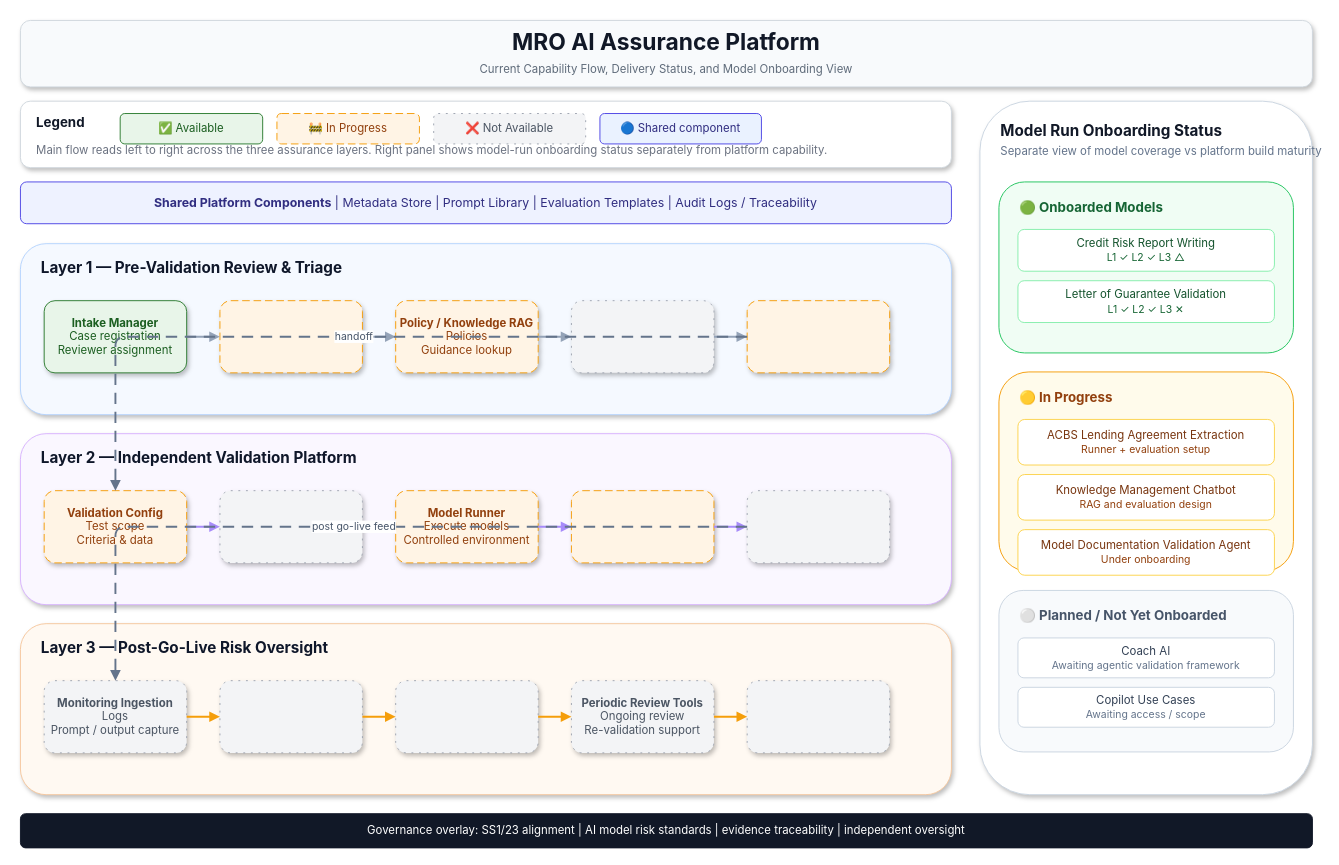
The diagram is 1339 pixels wide and 865 high, and some of its shapes have lost their labels. Here are the shapes that lost their labels. From the top down, the centre of each, then its label:
At pixel 291 338: "Document Parsing PDF / doc extraction Structured chunks".
At pixel 643 338: "Risk Triage Engine Materiality Risk scoring".
At pixel 818 338: "Review Output Triage pack Validation scope".
At pixel 291 528: "Test Orchestrator Run workflow Manage steps".
At pixel 643 528: "Evaluation Engine LLM-as-Judge Rules + hybrid scoring".
At pixel 818 528: "Reporting Engine Evidence pack Validation report".
At pixel 291 718: "Drift Detection Behaviour drift Risk change signals".
At pixel 467 718: "Alerting Framework Threshold breaches Escalation workflow".
At pixel 818 718: "Oversight Dashboard Portfolio view Risk summaries".
